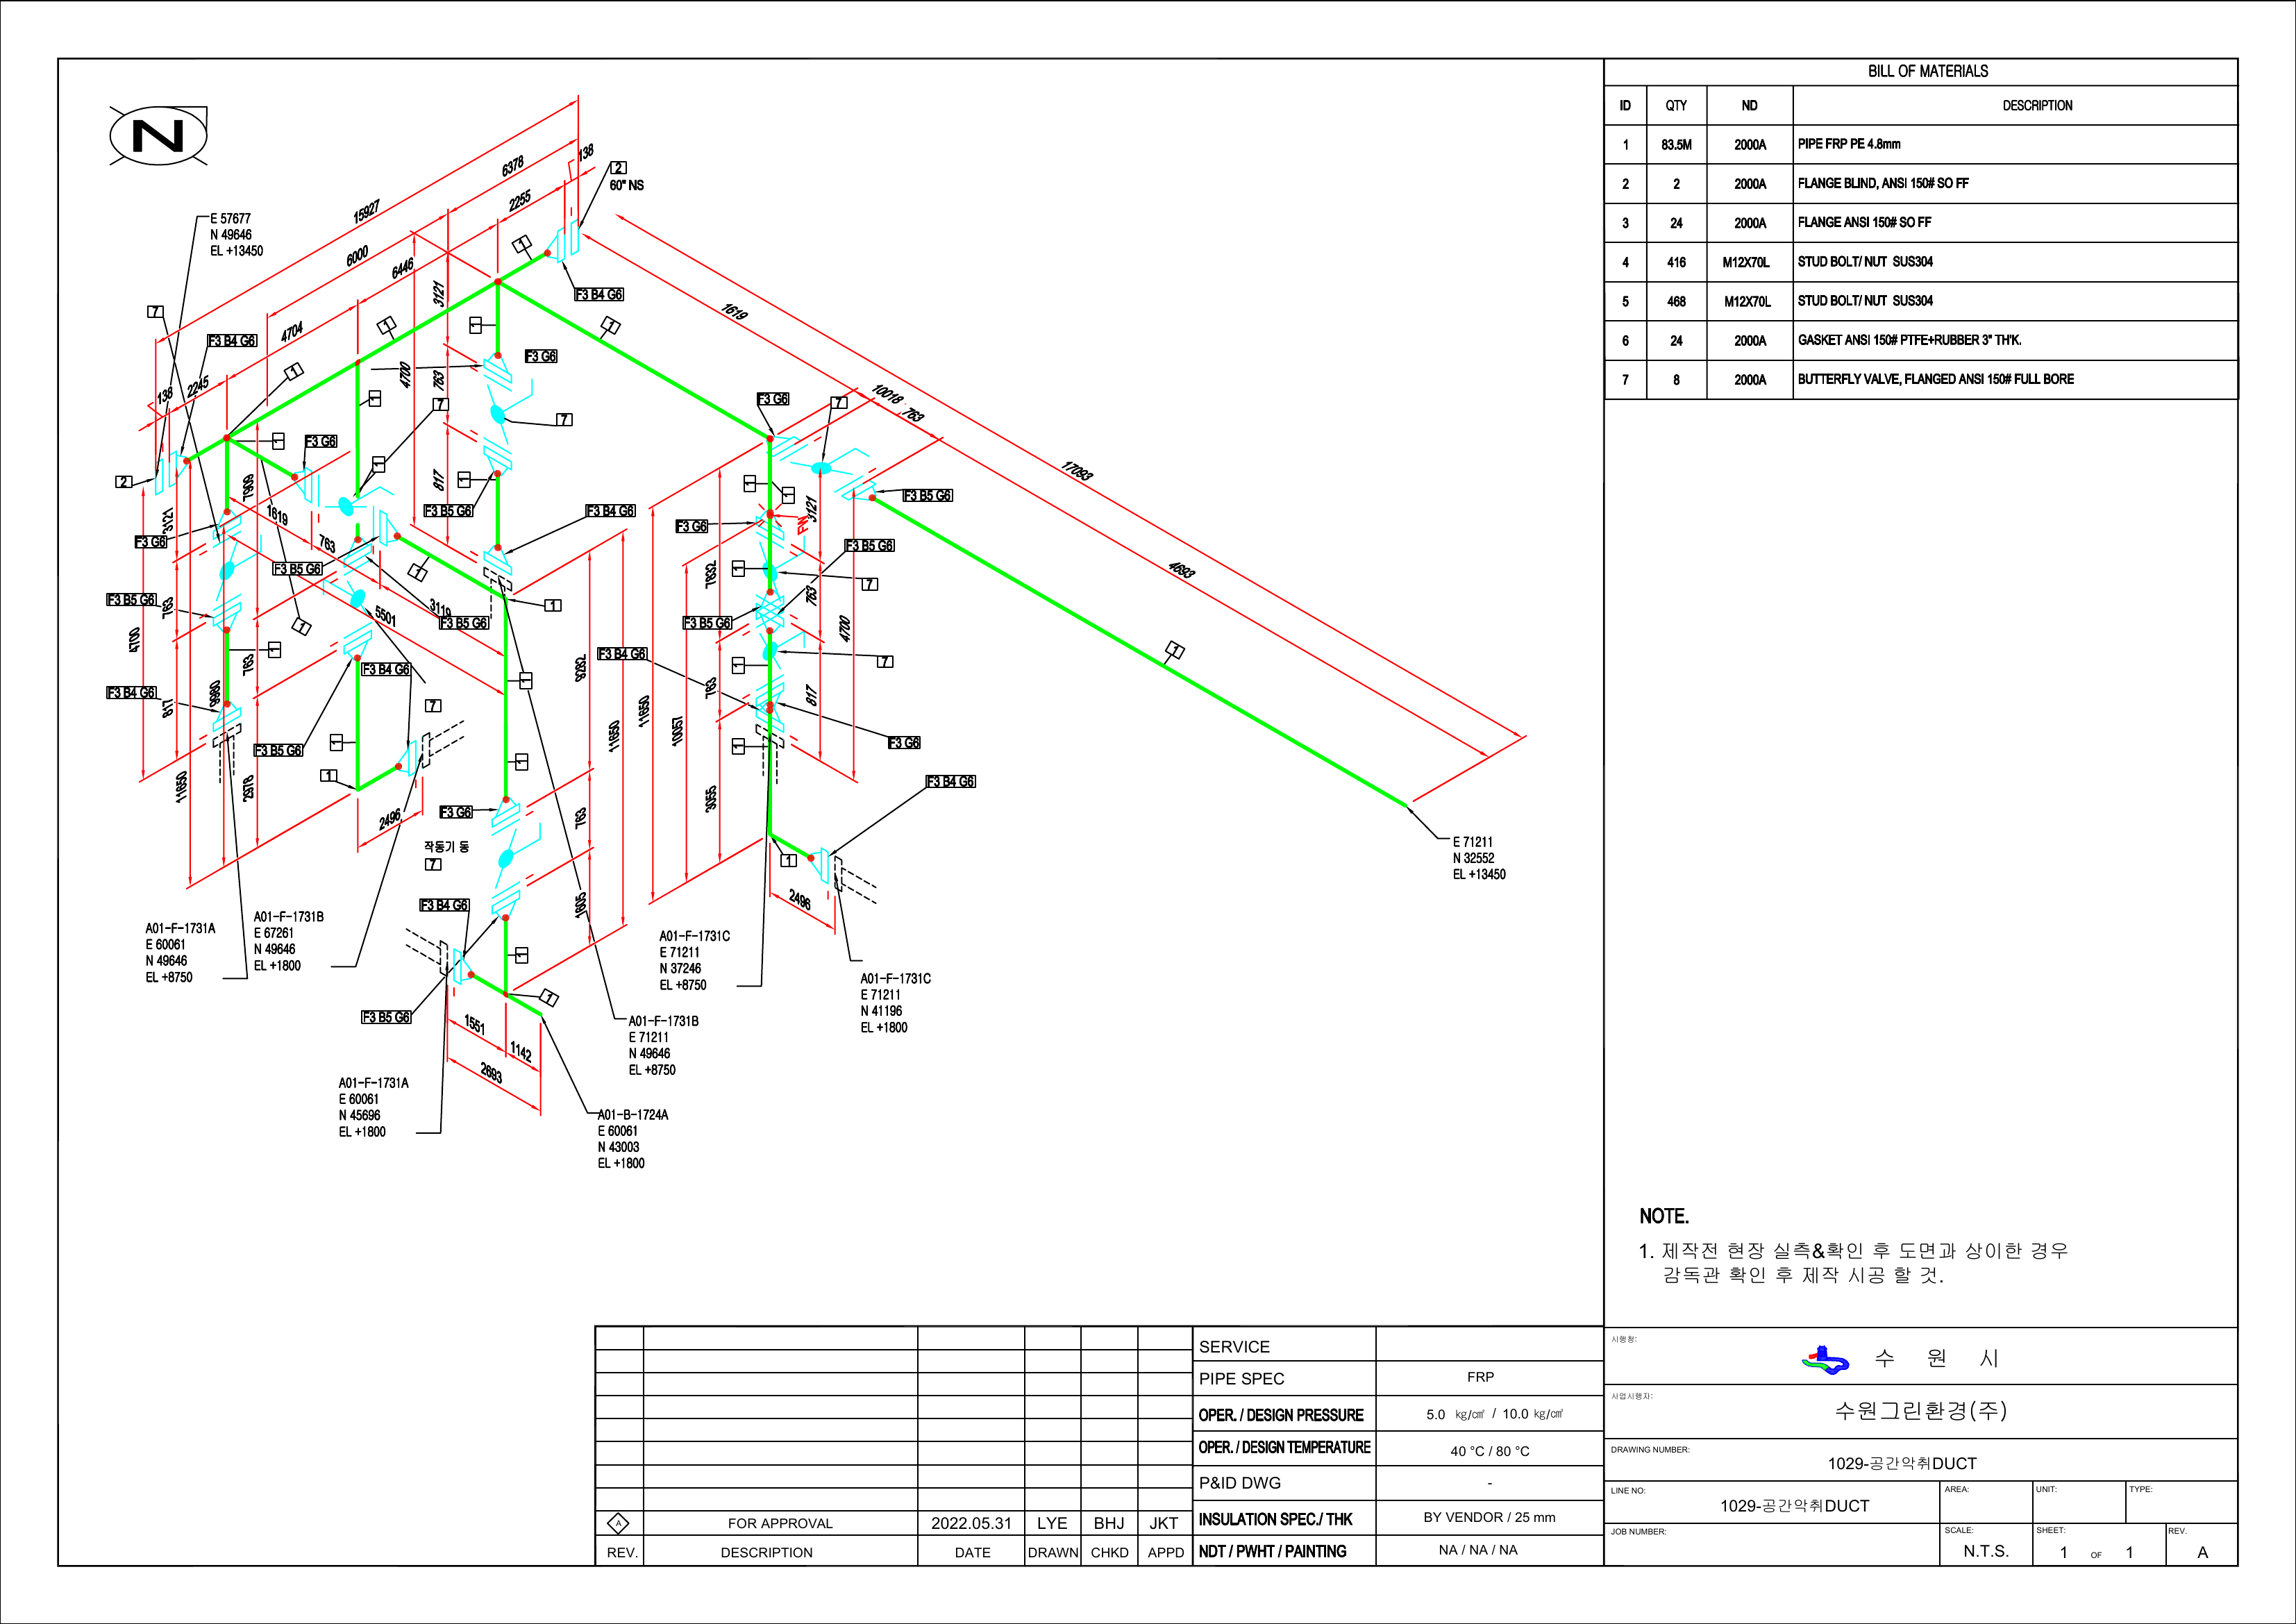table: (1593, 46, 2245, 406)
